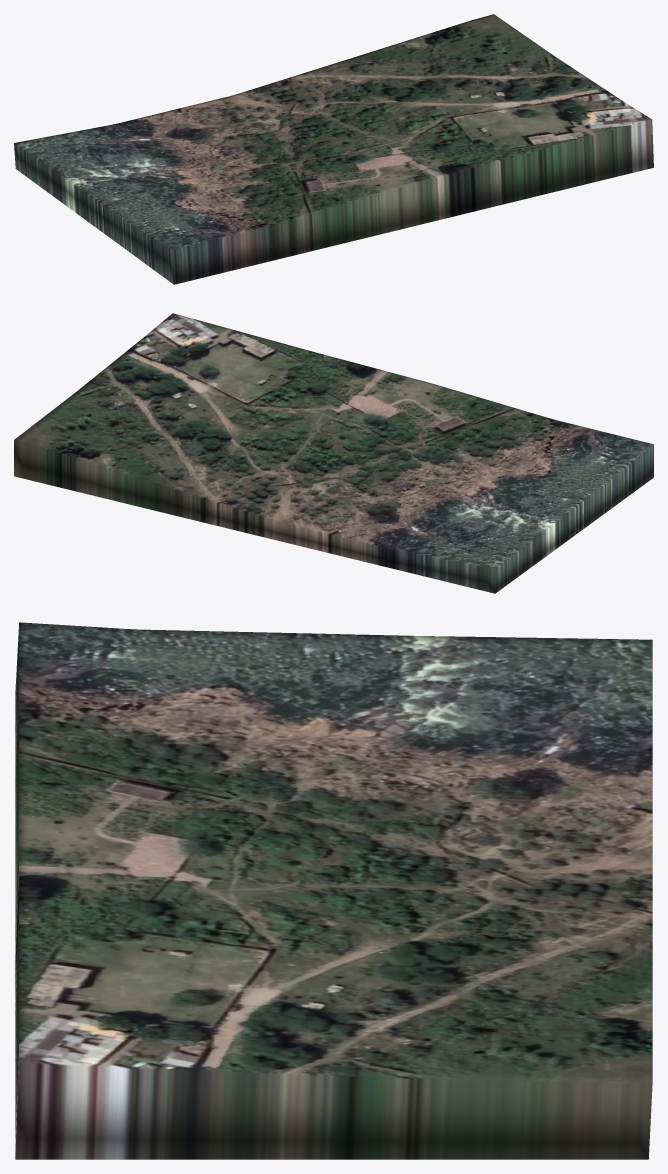
File: Rural1.glb
3 views of the same model, one above another, from view 1: azimuth 30°, elevation 25°; view 2: azimuth 150°, elevation 25°; view 3: azimuth 270°, elevation 25° (orthographic). The views are drawn at different scales.
Visible parts, largest first — view 1: EXPORT_GOOGLE_SAT_WM; view 2: EXPORT_GOOGLE_SAT_WM; view 3: EXPORT_GOOGLE_SAT_WM.
Part boxes in pixels (bbox=[...]): EXPORT_GOOGLE_SAT_WM: bbox=[14, 14, 653, 284]; EXPORT_GOOGLE_SAT_WM: bbox=[14, 313, 653, 593]; EXPORT_GOOGLE_SAT_WM: bbox=[15, 622, 652, 1159].
Size of the model in its own units: 268 by 25.42 by 154.
Materials: 1 (1 with a texture image).
